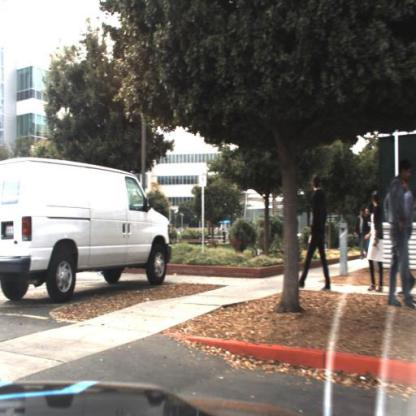car: (2, 154, 179, 304)
pedestrian: (387, 157, 416, 311), (302, 172, 333, 295), (369, 188, 386, 294), (356, 209, 370, 259)
truck: (1, 154, 174, 303)
